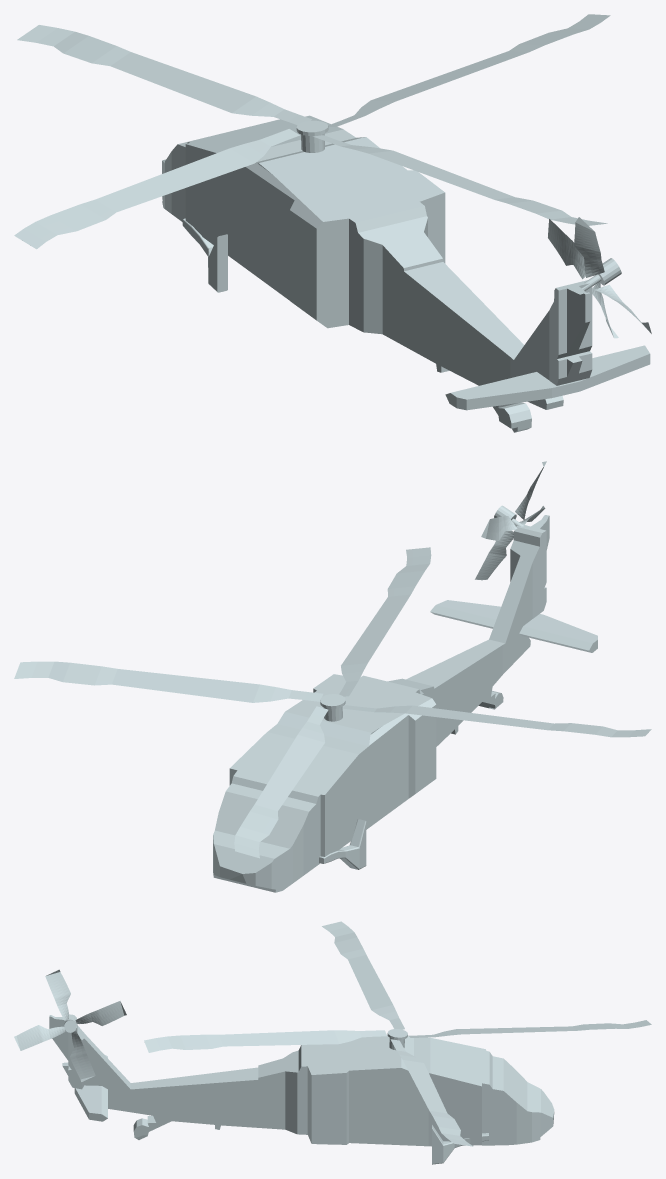
3 renders of one model, top to bottom at view 1: azimuth 30°, elevation 25°; view 2: azimuth 150°, elevation 25°; view 3: azimuth 270°, elevation 25°, orthographic. The views are drawn at different scales.
Parts seen in each view (by area): view 1: Aircraft visual hull, Rotor 1789435974971-a8efygf71ys, Rotor 1789480469367-g70trk64pj; view 2: Aircraft visual hull, Rotor 1789435974971-a8efygf71ys, Rotor 1789480469367-g70trk64pj; view 3: Aircraft visual hull, Rotor 1789435974971-a8efygf71ys, Rotor 1789480469367-g70trk64pj.
Boxes of the visible parts, x1,y1,x2,y2 form: Aircraft visual hull: [162, 115, 650, 432]; Rotor 1789435974971-a8efygf71ys: [14, 14, 610, 249]; Rotor 1789480469367-g70trk64pj: [548, 217, 651, 338]; Aircraft visual hull: [213, 515, 597, 892]; Rotor 1789435974971-a8efygf71ys: [14, 547, 651, 858]; Rotor 1789480469367-g70trk64pj: [475, 461, 546, 580]; Aircraft visual hull: [49, 1014, 554, 1164]; Rotor 1789435974971-a8efygf71ys: [144, 921, 651, 1146]; Rotor 1789480469367-g70trk64pj: [14, 969, 126, 1081].
Bounding box in the file's own units: 19.88 × 7.52 × 24.91.
